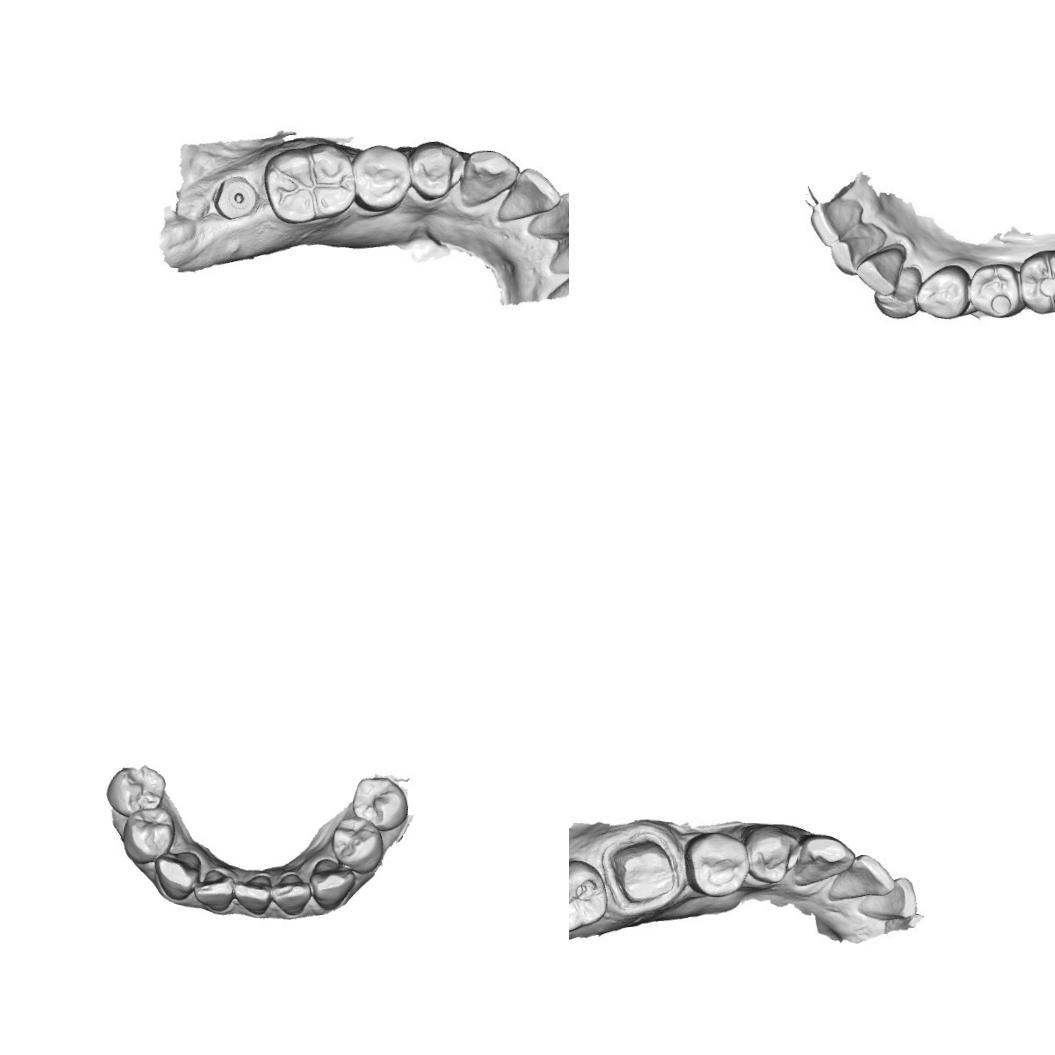canine: (794, 828, 856, 894), (463, 146, 514, 212), (308, 856, 356, 912), (152, 849, 202, 901)
crown: (599, 829, 682, 912)
implant: (210, 170, 260, 222)
incisor: (826, 850, 897, 906), (500, 165, 560, 223), (828, 219, 885, 278), (807, 195, 866, 248), (858, 240, 910, 292), (527, 188, 569, 241), (268, 871, 312, 916), (193, 868, 236, 914), (232, 872, 274, 918), (547, 227, 569, 280)
molar: (264, 140, 354, 228), (569, 857, 611, 936), (1015, 244, 1055, 320)
premolar: (682, 829, 750, 900), (350, 141, 410, 212), (408, 138, 468, 202), (349, 774, 410, 833), (104, 764, 168, 820), (916, 264, 974, 324), (744, 824, 800, 886), (968, 262, 1024, 321), (330, 816, 386, 875), (121, 804, 176, 864)
